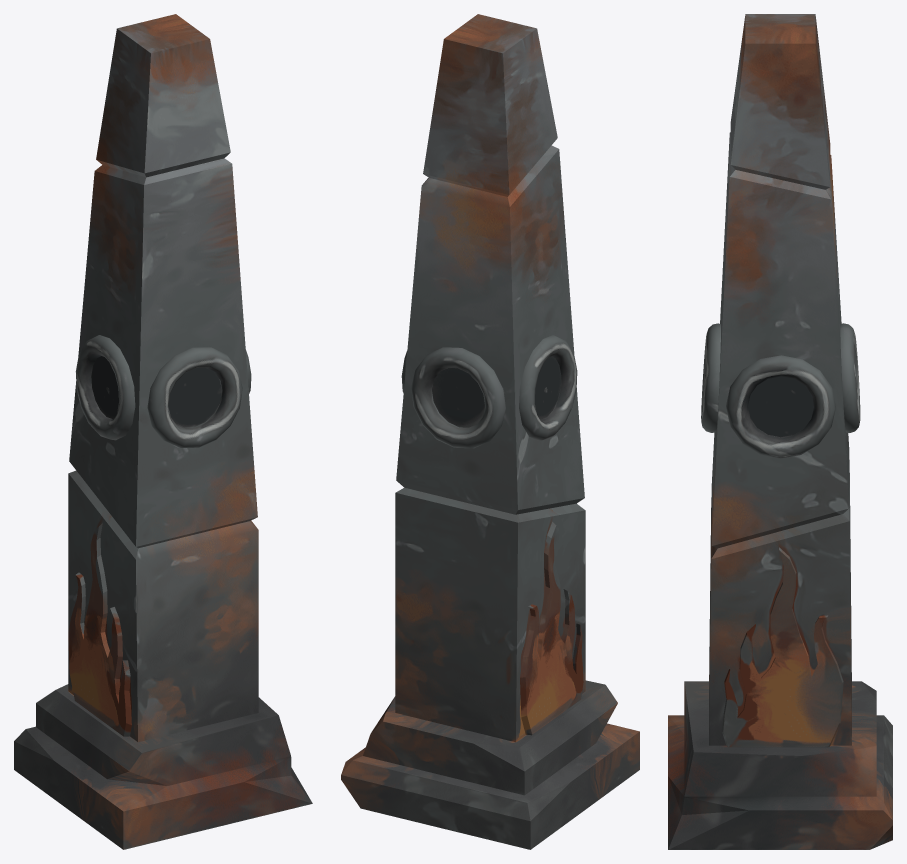
The model's file is filar_ogien.obj.
3 views of the same model, side by side, from view 1: azimuth 30°, elevation 25°; view 2: azimuth 150°, elevation 25°; view 3: azimuth 270°, elevation 25° (orthographic). The views are drawn at different scales.
Parts seen in each view (by area): view 1: Cube.056; view 2: Cube.056; view 3: Cube.056.
Boxes of the visible parts, bbox=[...] form: Cube.056: bbox=[14, 14, 312, 849]; Cube.056: bbox=[341, 14, 639, 849]; Cube.056: bbox=[668, 14, 892, 849].
Bounding box in the file's own units: 7.67 × 29.12 × 7.67.
Materials: 1 (1 with a texture image).
